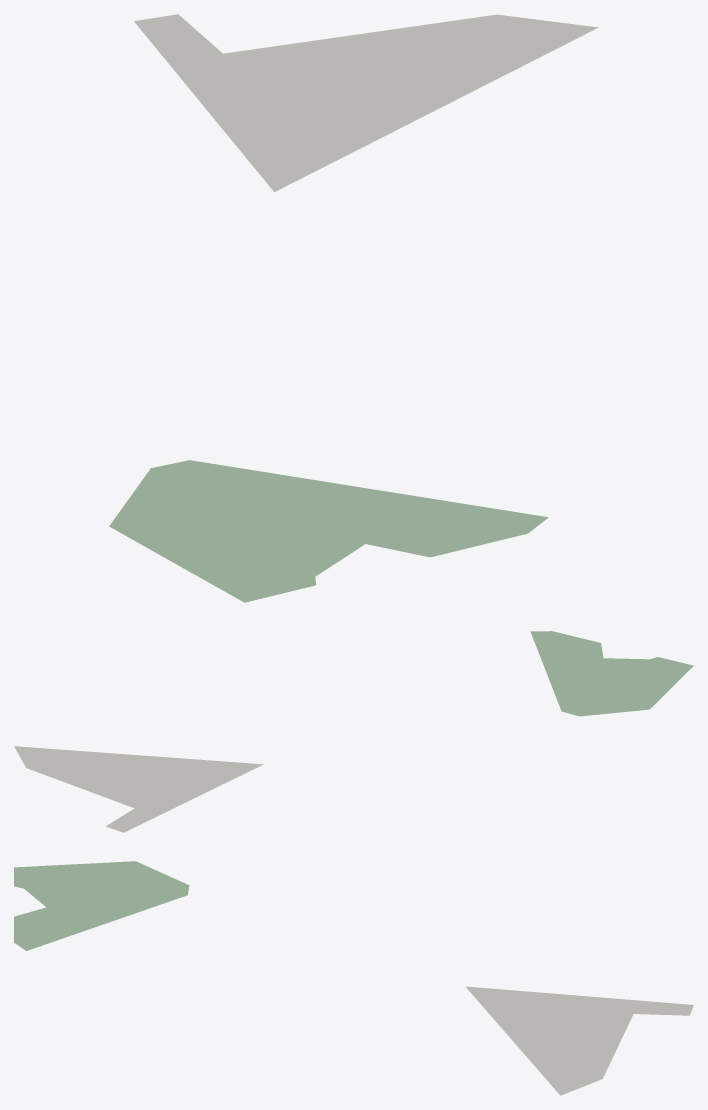
Rendered from 93_109_mid.glb.
3 views of the same model, one above another, from view 1: azimuth 30°, elevation 25°; view 2: azimuth 150°, elevation 25°; view 3: azimuth 270°, elevation 25° (orthographic). The views are drawn at different scales.
Bounding box in the file's own units: 402 × 0.8553 × 494.
